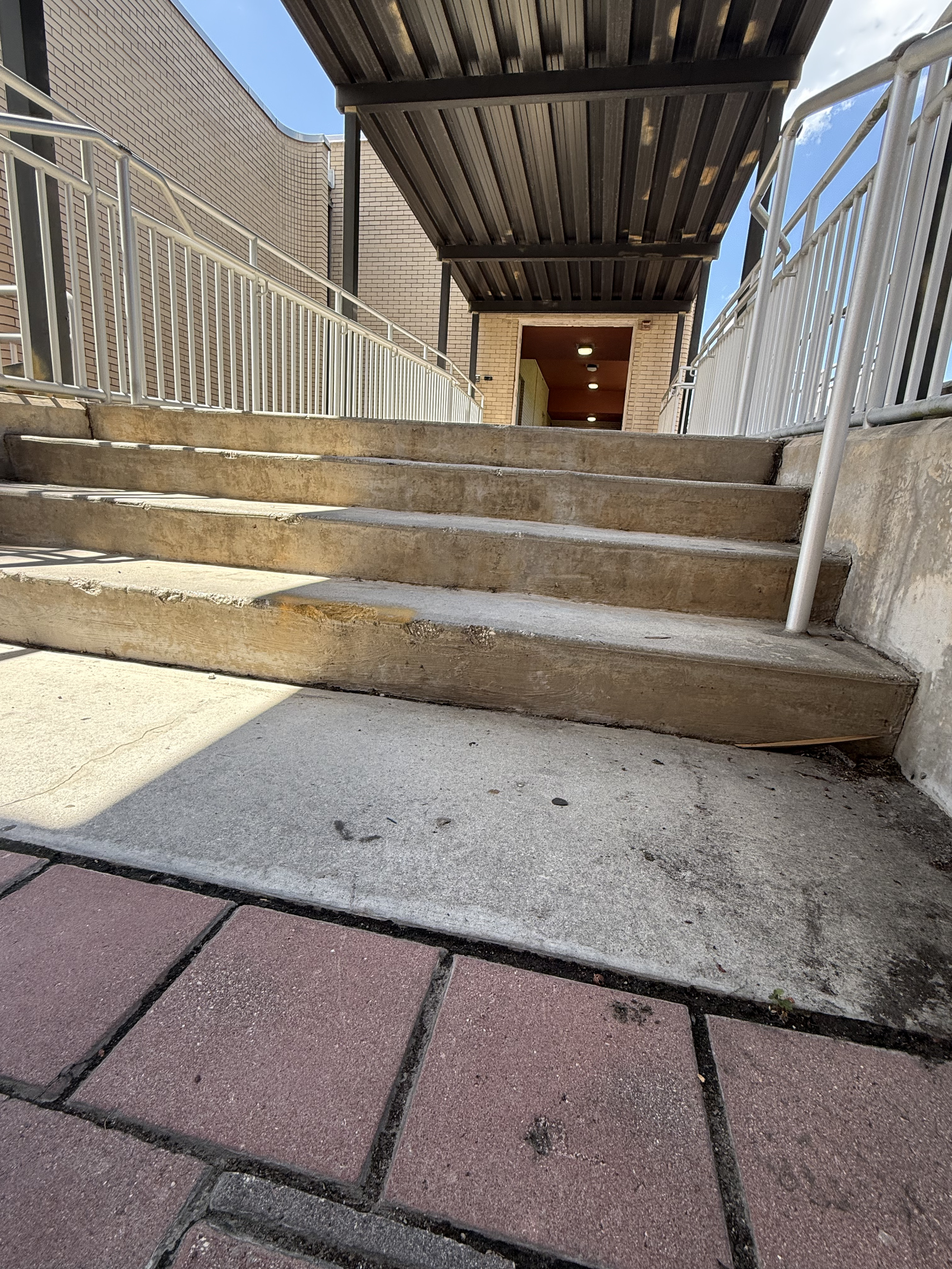stairs: (1, 409, 916, 761)
